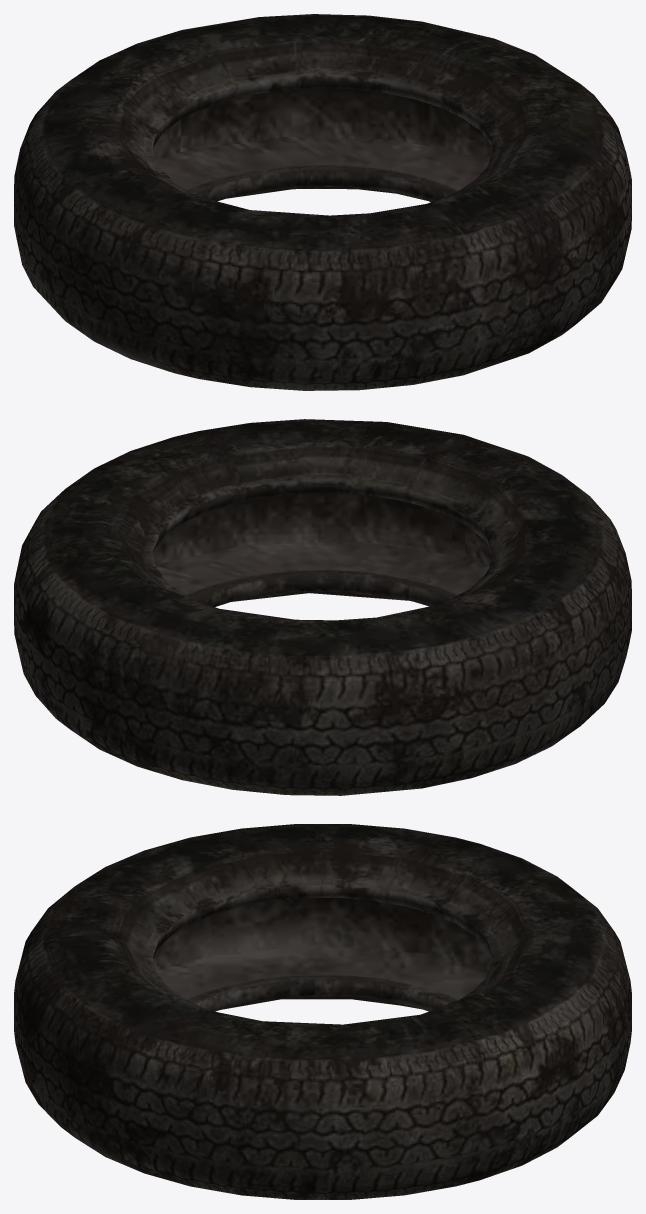
File: tyre.glb
The picture shows the model from 3 angles, top to bottom: view 1: azimuth 30°, elevation 25°; view 2: azimuth 150°, elevation 25°; view 3: azimuth 270°, elevation 25°; orthographic projection.
Visible parts, largest first — view 1: tyre; view 2: tyre; view 3: tyre.
Boxes of the visible parts, x1,y1,x2,y2 form: tyre: (14, 14, 631, 390); tyre: (14, 419, 631, 795); tyre: (14, 824, 631, 1199).
Size of the model in its own units: 0.6 by 0.165 by 0.6.
1 material, 1 textured.
